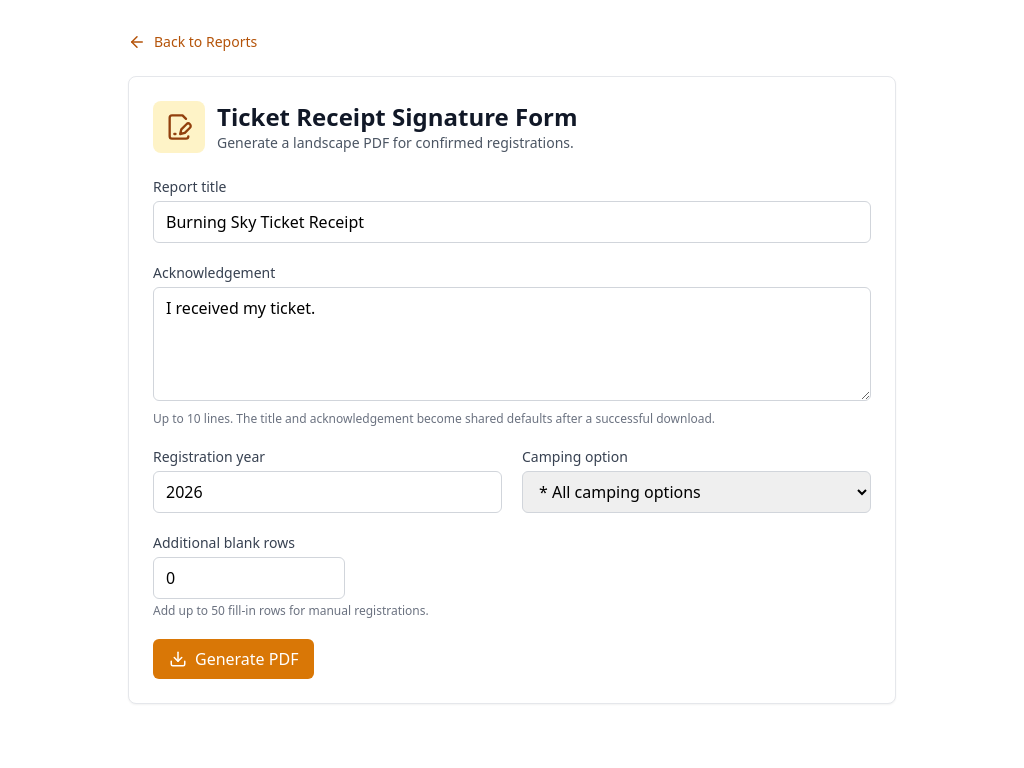
Test case: TicketReceiptReportPage › shouldGenerateDownloadAndPersistDefaultsImplicitly
This screenshot has width=1024, height=768.
Expected: the field showing "Burning Sky Ticket Receipt" is shown, [153,201,871,243]
Select "Main Camp" in the dropdown labelled "Camping option": (696, 492) [522,471,871,513]
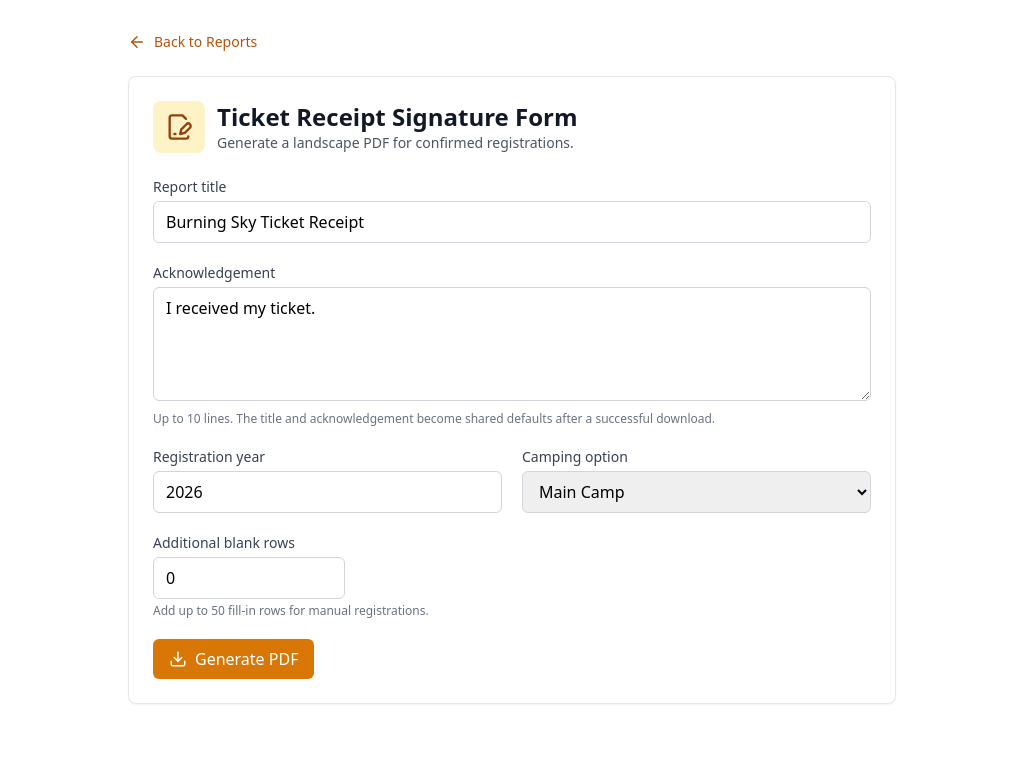
Replace the text in the number field labelled "Additional blank rows" with "4": (249, 578) [153,557,345,599]
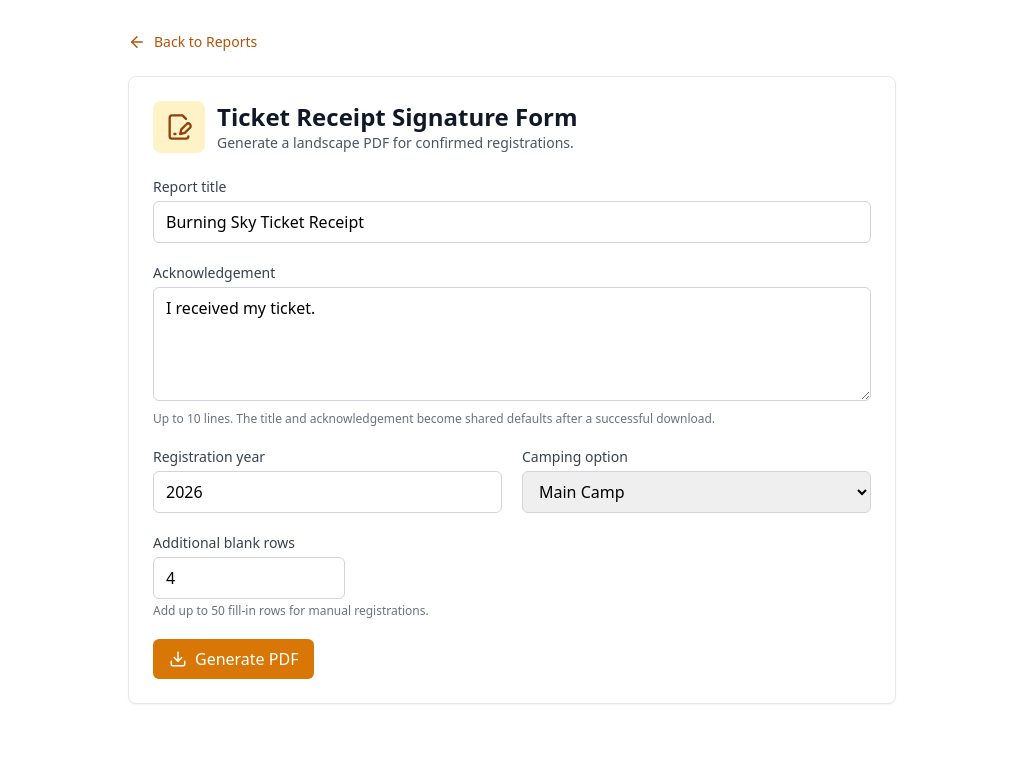
Click the button "Generate PDF": (234, 659) [153,639,314,679]
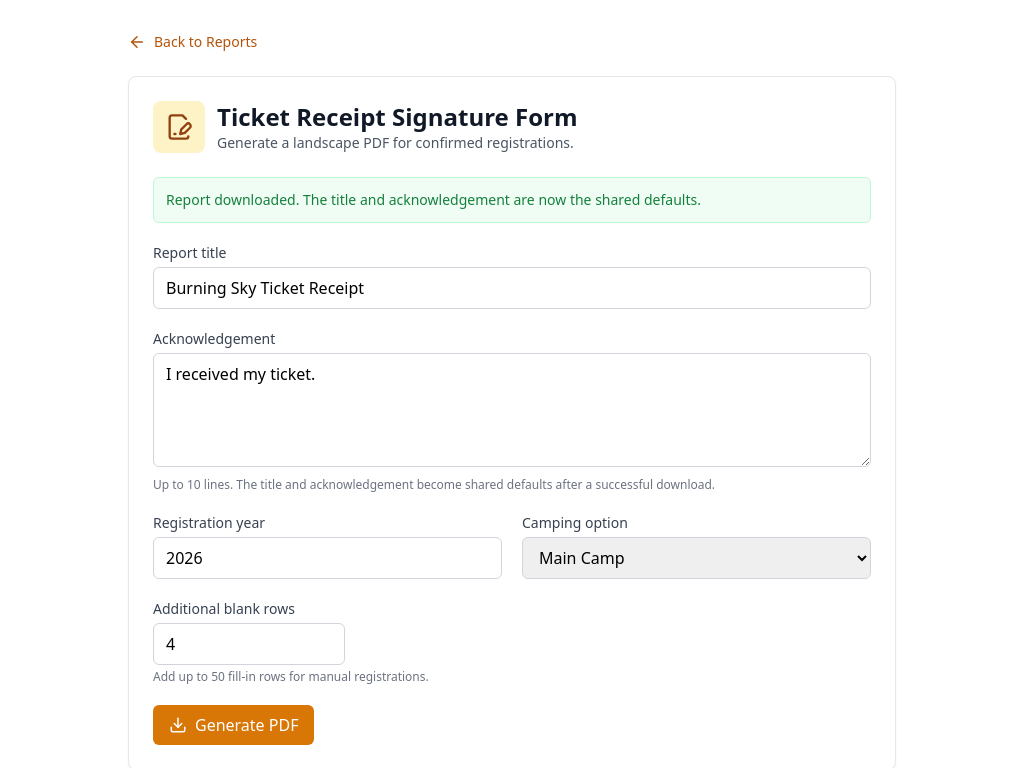
Result: the text "Report downloaded. The title and acknowledgement are now the shared defaults." is shown at [153,177,871,223]
